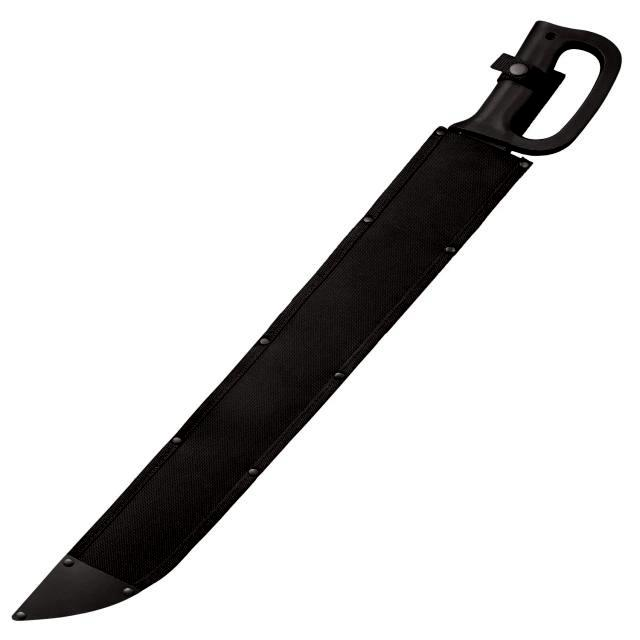long knife: (13, 20, 624, 624), (16, 7, 574, 621)
